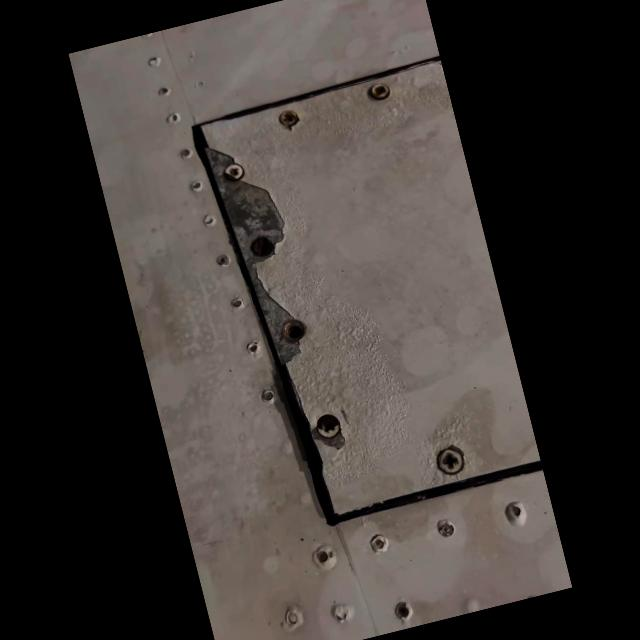Missing Fastener: (277, 316, 309, 346)
